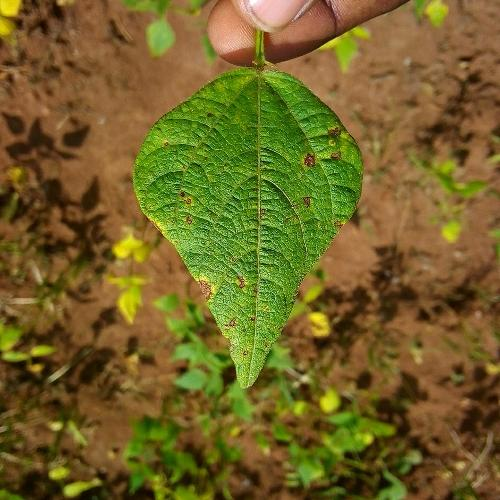hawar: (182, 266, 272, 370), (294, 114, 358, 230), (130, 178, 196, 237)
mozaik: (212, 98, 283, 252)
